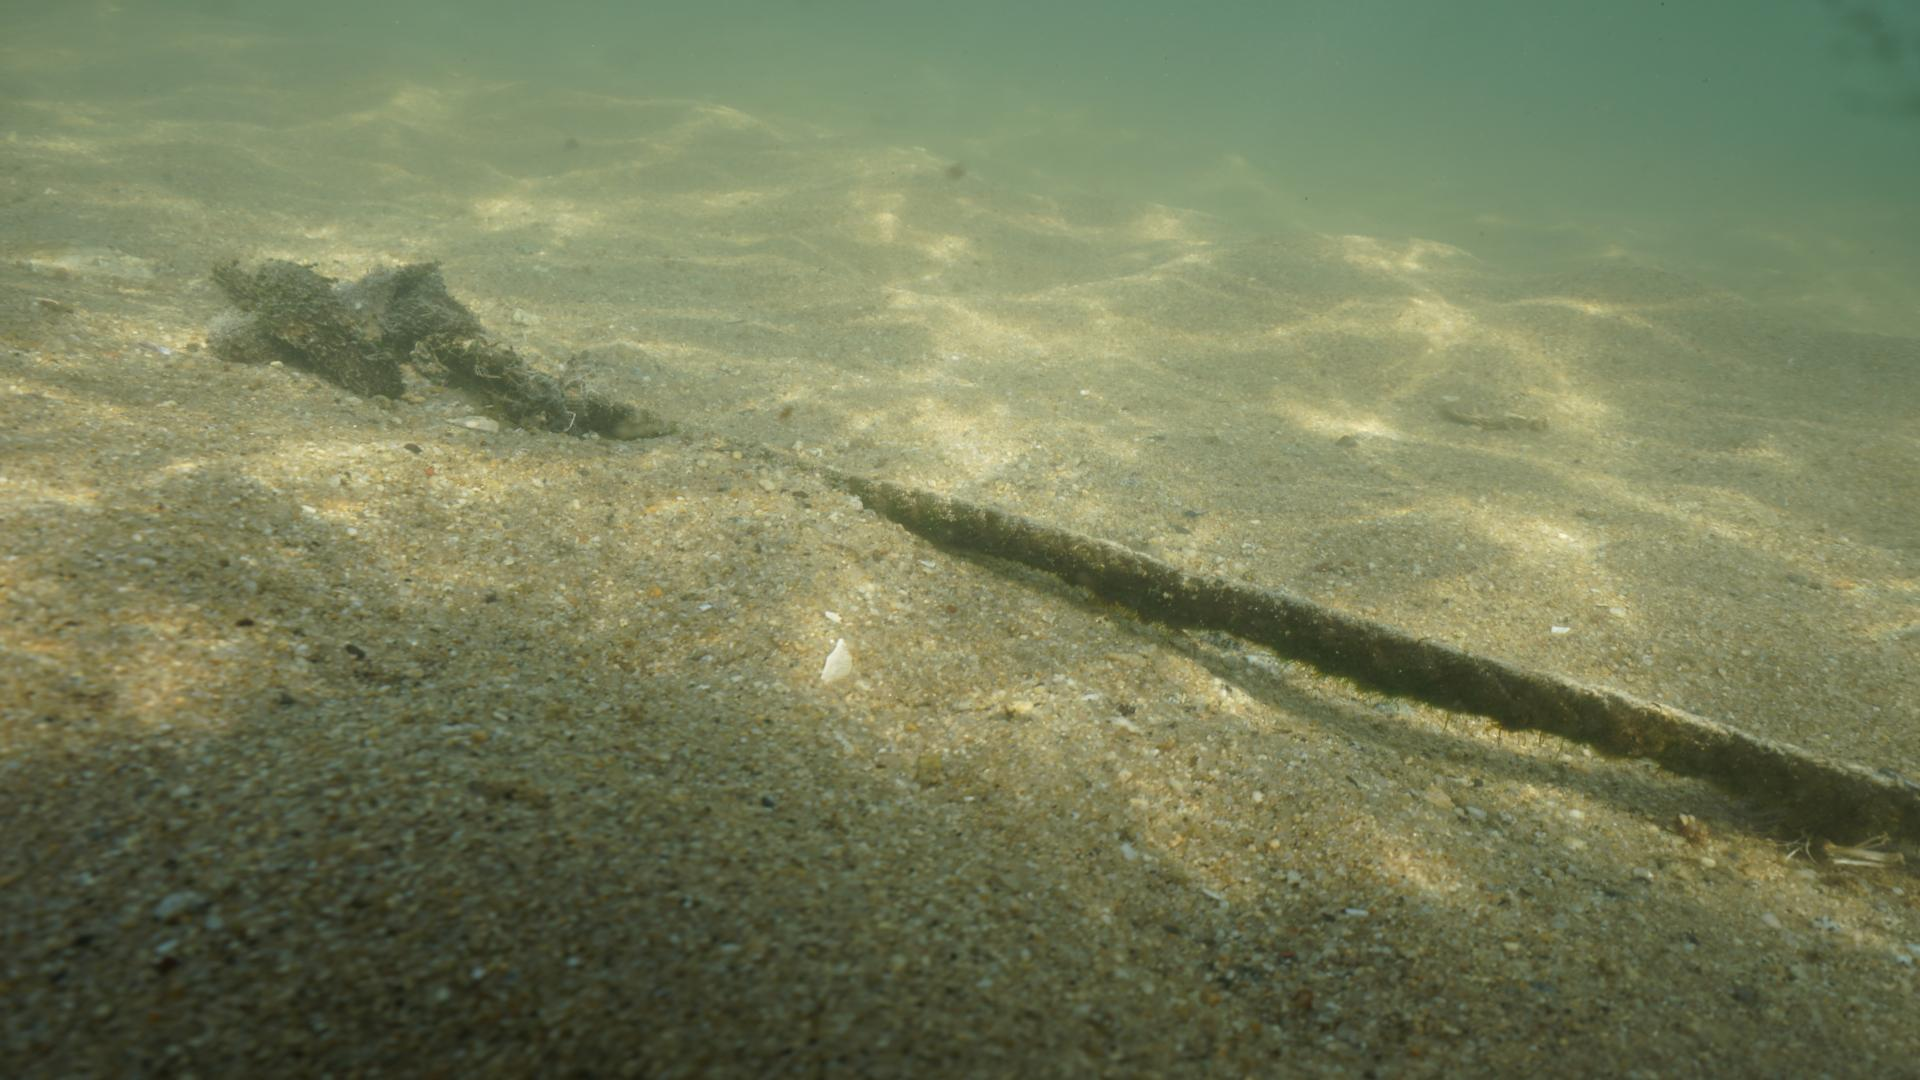rope: (798, 467, 1920, 855)
